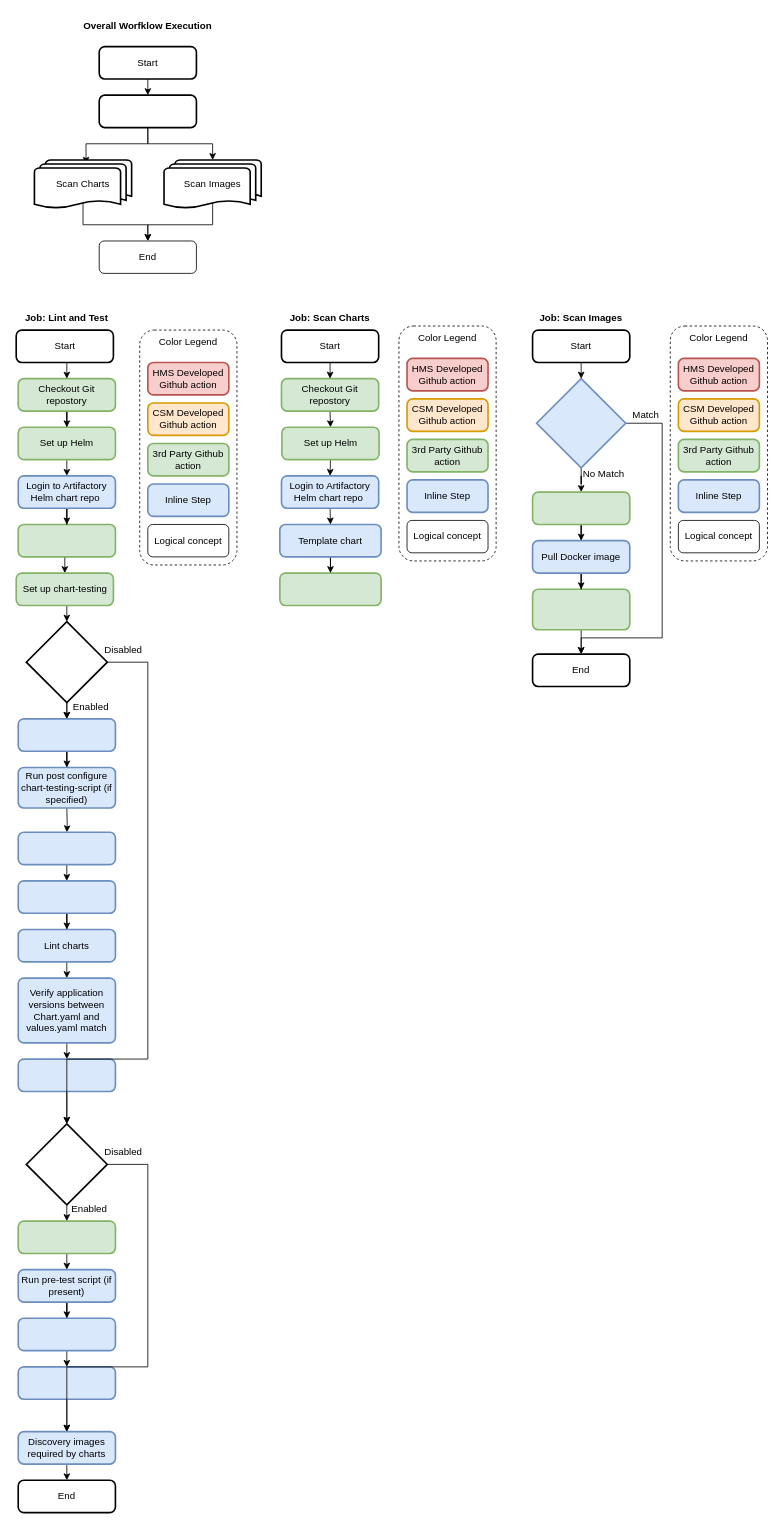
Some shapes in this 782 by 1527 pixel diagram are drawn without their labels. The shapes that lost their labels are listed below. From the top down, each one's box as (x1, y1, x2, y2) in pixels, then its label:
(98, 94, 197, 128): Lint and Test Job
(535, 377, 626, 468): Compare image name against ignore-prefix-list
(531, 491, 630, 525): Login to Artifactory Docker registry
(17, 523, 116, 557): Setup Python
(279, 572, 382, 606): Run Snyk to check Kubernetes resources
(531, 588, 630, 630): Run snyk against the Docker image for vulnerabilities
(25, 620, 108, 703): Check if chart linting is enabled
(17, 718, 116, 752): Configure chart-testing
(17, 831, 116, 865): List changed charts
(17, 880, 116, 914): Run pre-lint script (if specified)
(17, 1058, 116, 1092): Run post-lint script
(25, 1123, 108, 1205): Check if chart testing is enabled
(17, 1220, 116, 1254): Create test Kubernetes cluster
(17, 1317, 116, 1351): Deploy charts to test Kubernetes cluster
(17, 1366, 116, 1400): Run post-test script (if present)
